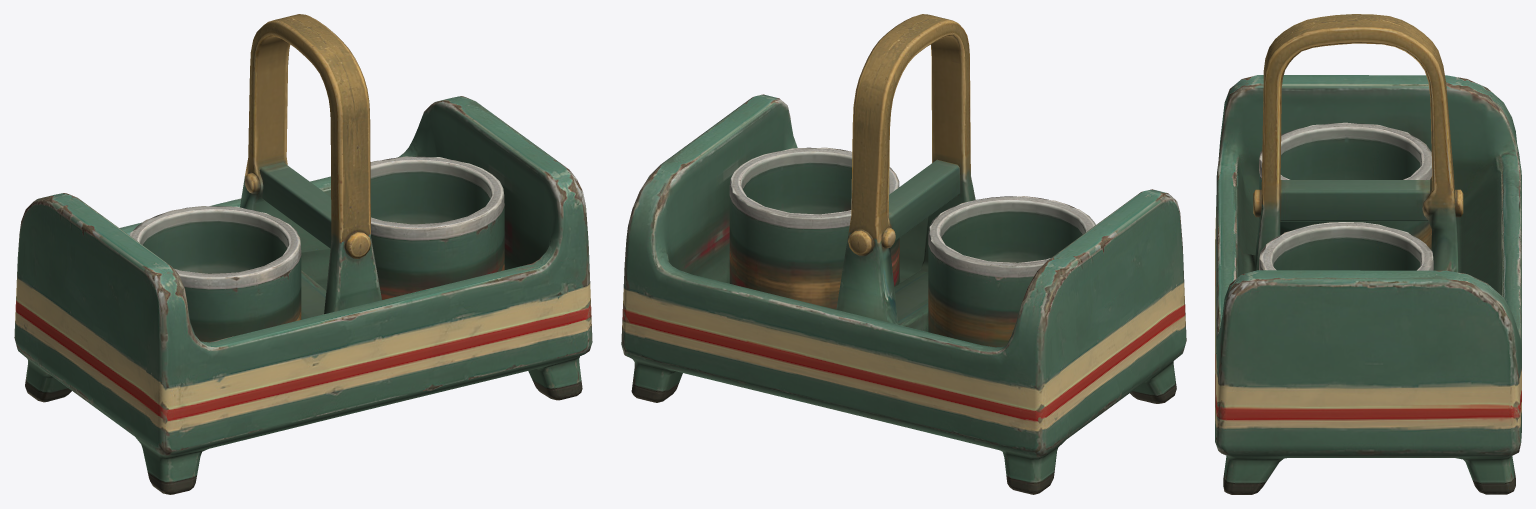
Rendered from P47_condiment_caddy_Runtime_1k.glb.
3 renders of one model, left to right at view 1: azimuth 30°, elevation 25°; view 2: azimuth 150°, elevation 25°; view 3: azimuth 270°, elevation 25°, orthographic. The views are drawn at different scales.
Parts seen in each view (by area): view 1: tripo_node_151bb4b9; view 2: tripo_node_151bb4b9; view 3: tripo_node_151bb4b9.
Boxes of the visible parts, x1,y1,x2,y2 form: tripo_node_151bb4b9: (14, 14, 592, 494); tripo_node_151bb4b9: (621, 14, 1186, 494); tripo_node_151bb4b9: (1215, 14, 1521, 494).
Bounding box in the file's own units: 0.15 × 0.123 × 0.0912.
1 material, 1 textured.
